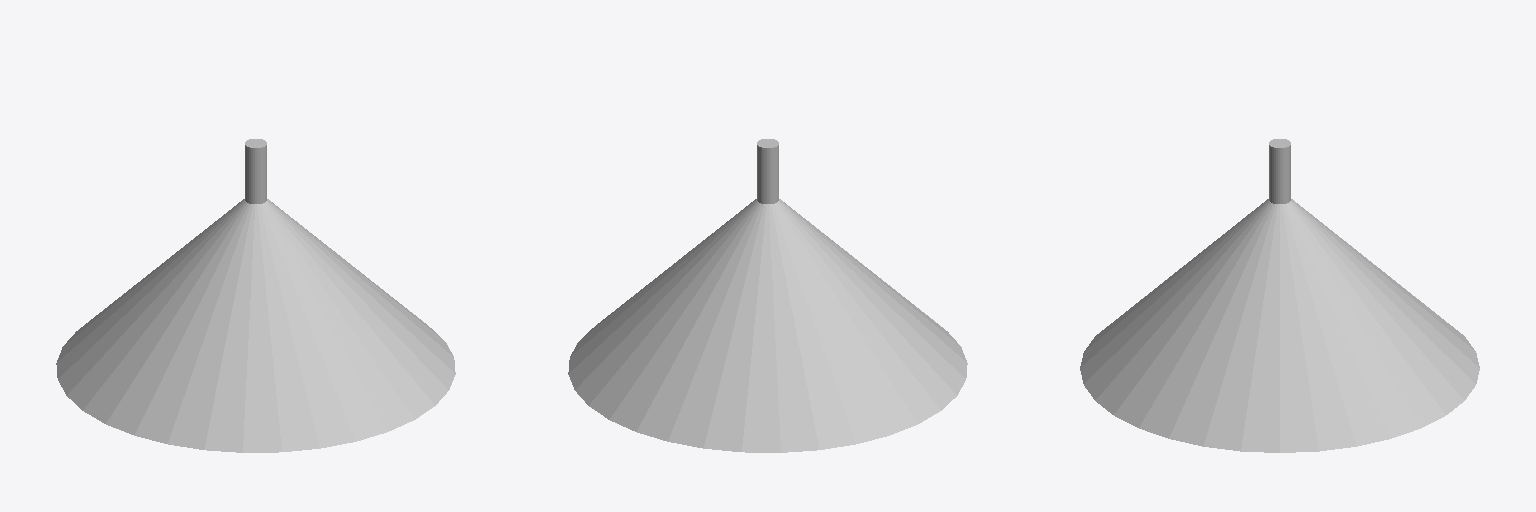
Rendered from lamp.obj.
The picture shows the model from 3 angles: view 1: azimuth 30°, elevation 25°; view 2: azimuth 150°, elevation 25°; view 3: azimuth 270°, elevation 25°; orthographic projection.
Visible parts, largest first — view 1: Cube; view 2: Cube; view 3: Cube.
Boxes of the visible parts, x1,y1,x2,y2 form: Cube: [56, 139, 455, 452]; Cube: [568, 139, 967, 452]; Cube: [1080, 139, 1479, 452].
Bounding box in the file's own units: 4.05 × 2.51 × 4.05.